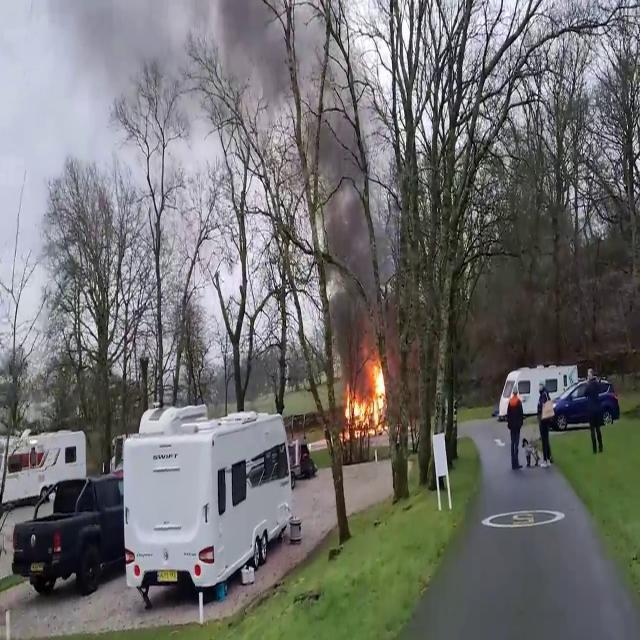Fire: (342, 351, 390, 437)
Smoke: (42, 6, 367, 150), (272, 0, 386, 356)
